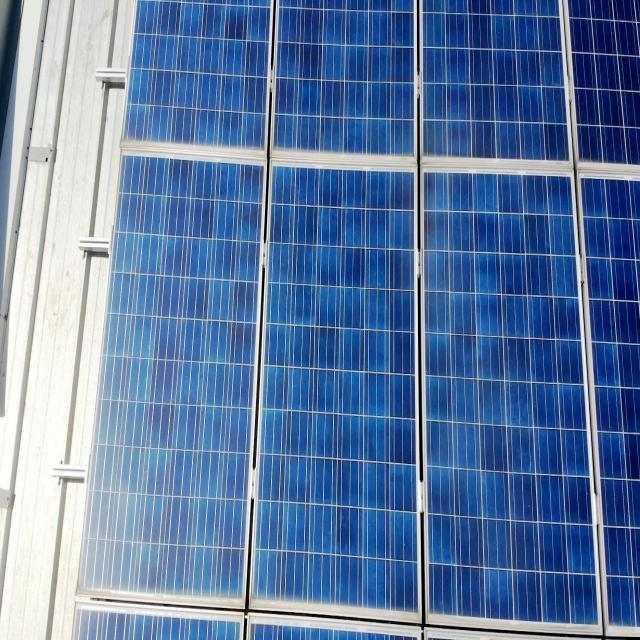no faulty: (73, 151, 267, 616), (419, 161, 606, 635), (120, 2, 640, 155), (265, 153, 426, 621)
